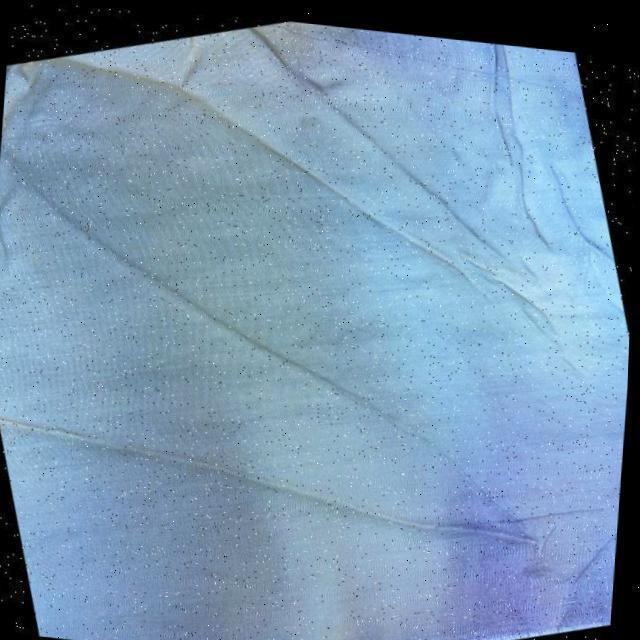broken_yarn: (3, 415, 548, 536), (72, 228, 399, 404), (377, 402, 519, 509)
pulled_or_thick_thread: (271, 18, 583, 86), (444, 497, 608, 518)
